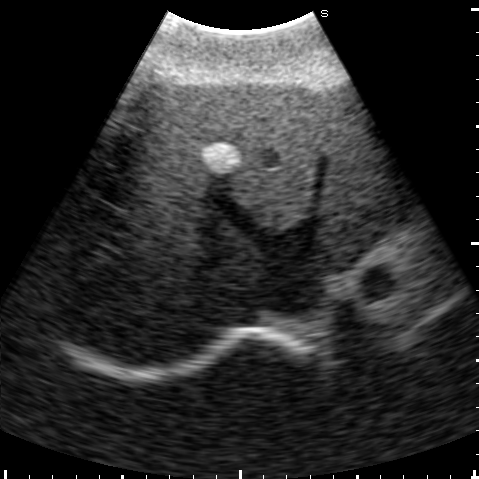S2: (318, 88, 394, 269)
S4: (124, 81, 322, 228)
S7: (60, 261, 213, 367)
S8: (90, 149, 261, 299)
Tumor: (201, 141, 239, 174)
